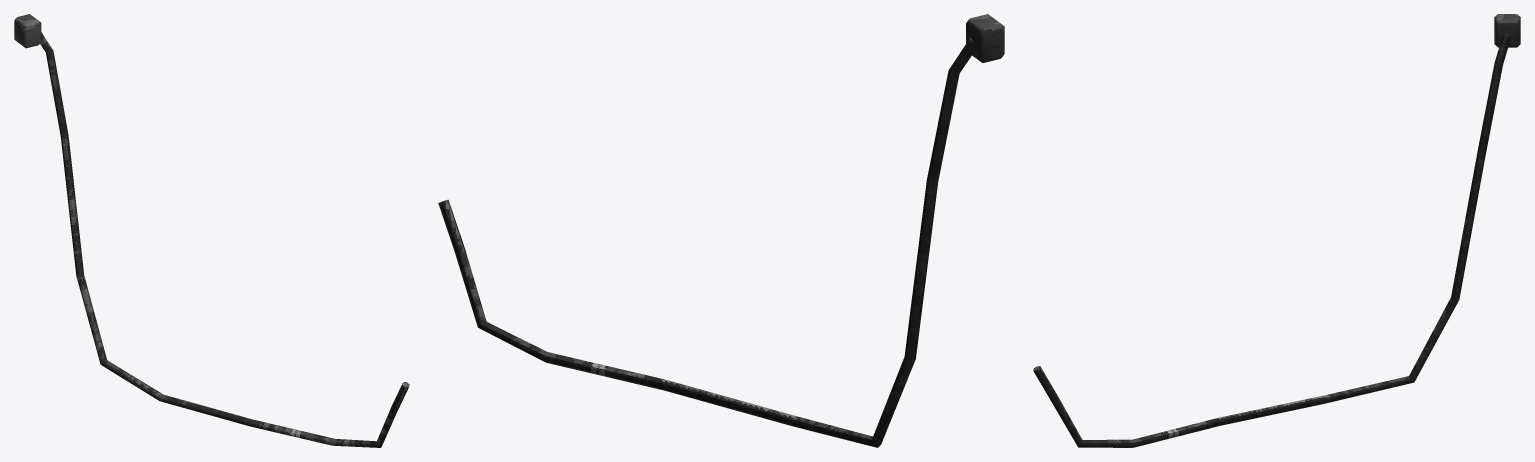
File: gk_cordchanger.glb
3 views of the same model, side by side, from view 1: azimuth 30°, elevation 25°; view 2: azimuth 210°, elevation 25°; view 3: azimuth 270°, elevation 25° (orthographic). The views are drawn at different scales.
Visible parts, largest first — view 1: mesh; view 2: mesh; view 3: mesh.
Part boxes in pixels (x1,y1,x2,y2): mesh: (14, 14, 409, 447); mesh: (438, 14, 1004, 447); mesh: (1033, 14, 1520, 447).
Size of the model in its own units: 0.249 by 0.457 by 0.5603.
Materials: 1 (1 with a texture image).
